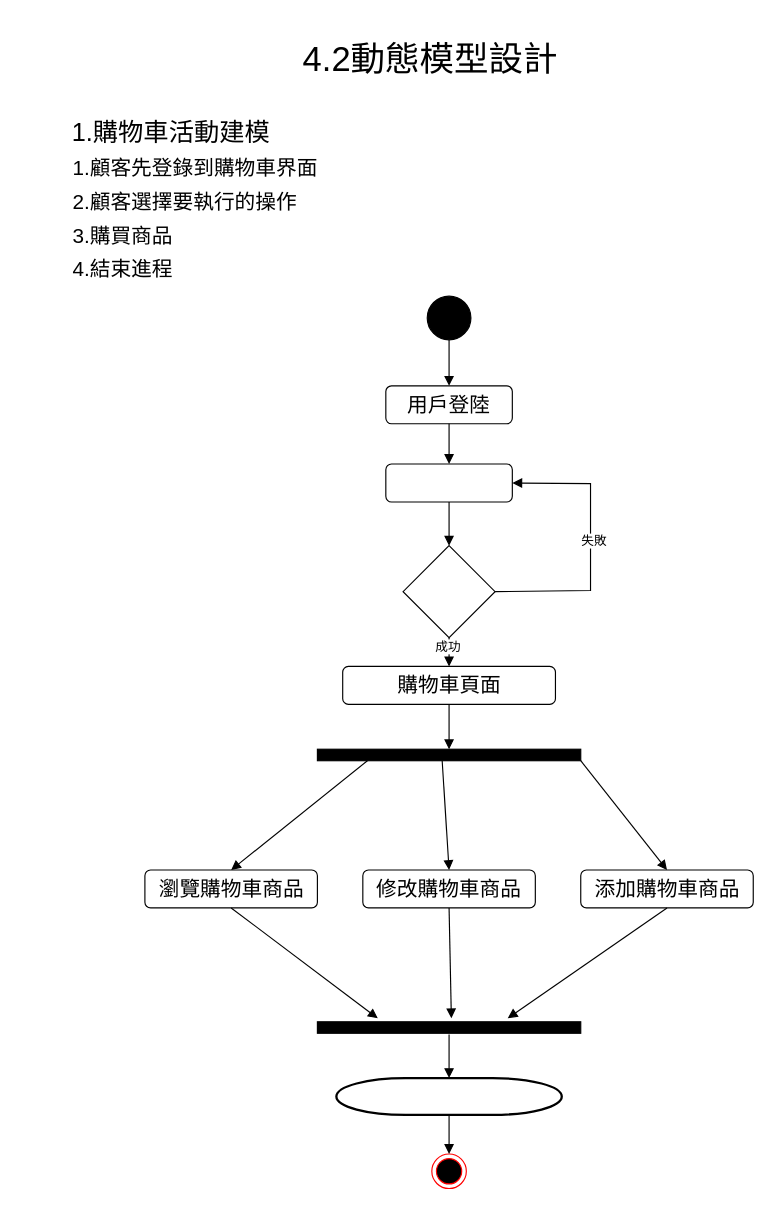
The diagram is 773 pixels wide and 1209 high, and some of its shapes have lost their labels. Each missing label, with the centre of its shape:
帳號密碼: the point at 448,482
購買商品: the point at 448,1096
